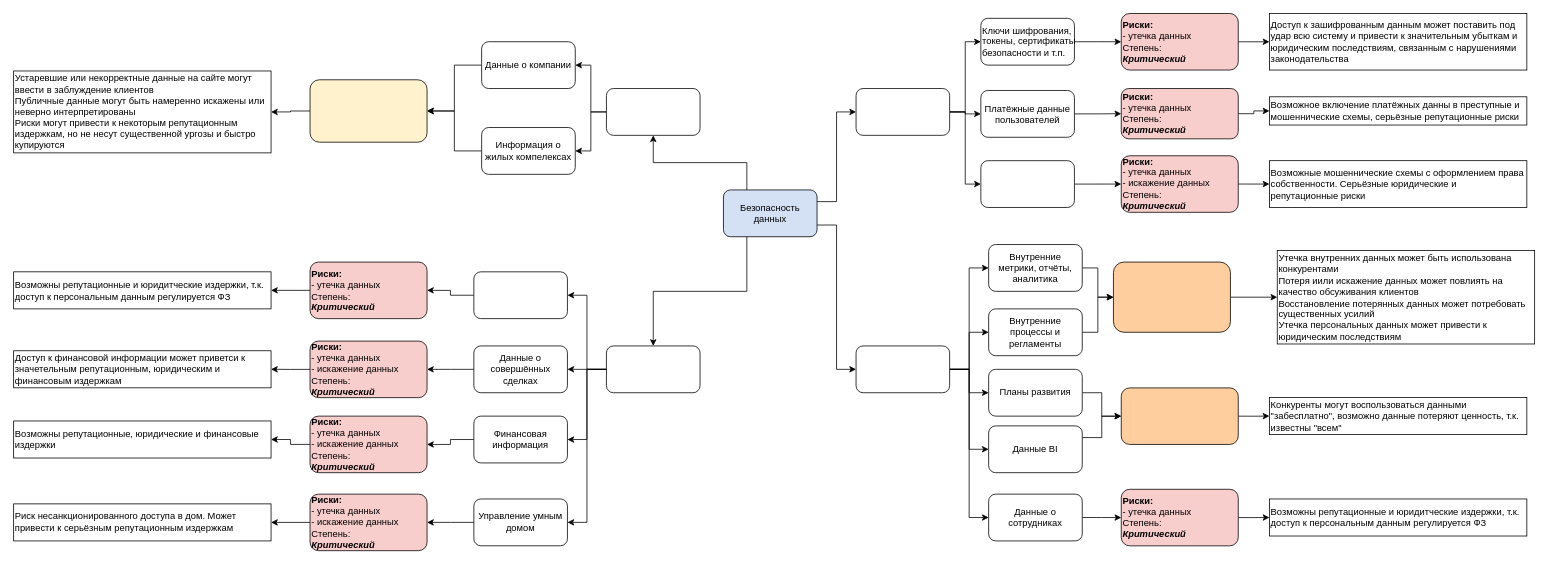
Some shapes in this 1548 by 565 pixel diagram are drawn without their labels. Each missing label, with the centre of its shape:
"Внутренние данные" belongs at [902,369].
"Данные об интеграции с госорганами" belongs at [1027,183].
"Конфиденциальные данные" belongs at [653,369].
"Персональные данные клиентов и собственников" belongs at [520,295].
"Публичные данные" belongs at [653,111].
"Риски: - искажение данных - некачественные данные Степень: Незначительный" belongs at [368,110].
"Риски: - утечка данных - искажение данных - потеря данных Степень: Значительный" belongs at [1171,296].
"Риски: - утечка данных - обесценивание данных Степень: Значительный" belongs at [1179,415].
"Секретные данные" belongs at [902,111].
